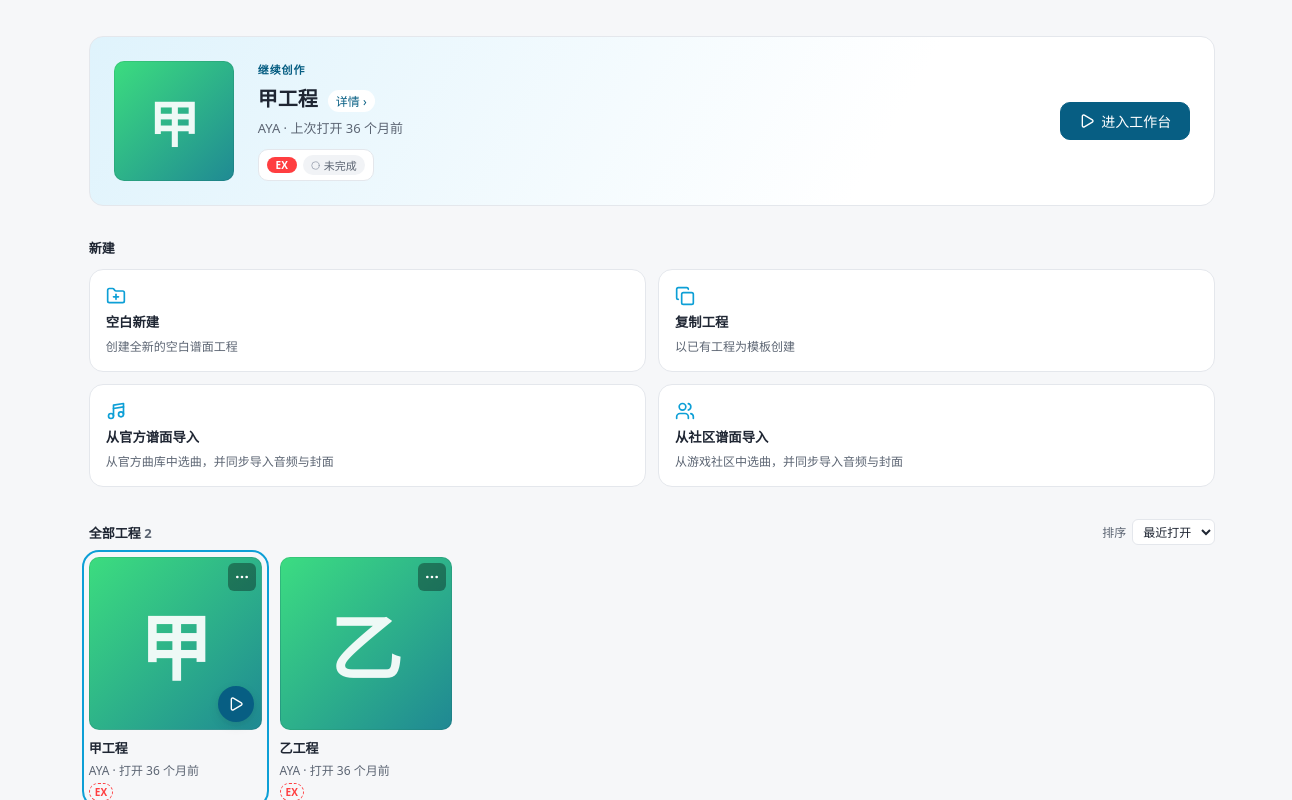
Scenario: 票 39 · 已登录那一态（Q10 / Q30 / Q31 / Q37） › 昵称没填时退到账号名，且**没有第二行**（Q30）
Check: the element showing "甲 甲工程 AYA · 打开 36 个月前 EX" is shown, box 89,557 -> 262,799
Click the text "甲工程".
click(108, 748)  # box 89,739 -> 128,757
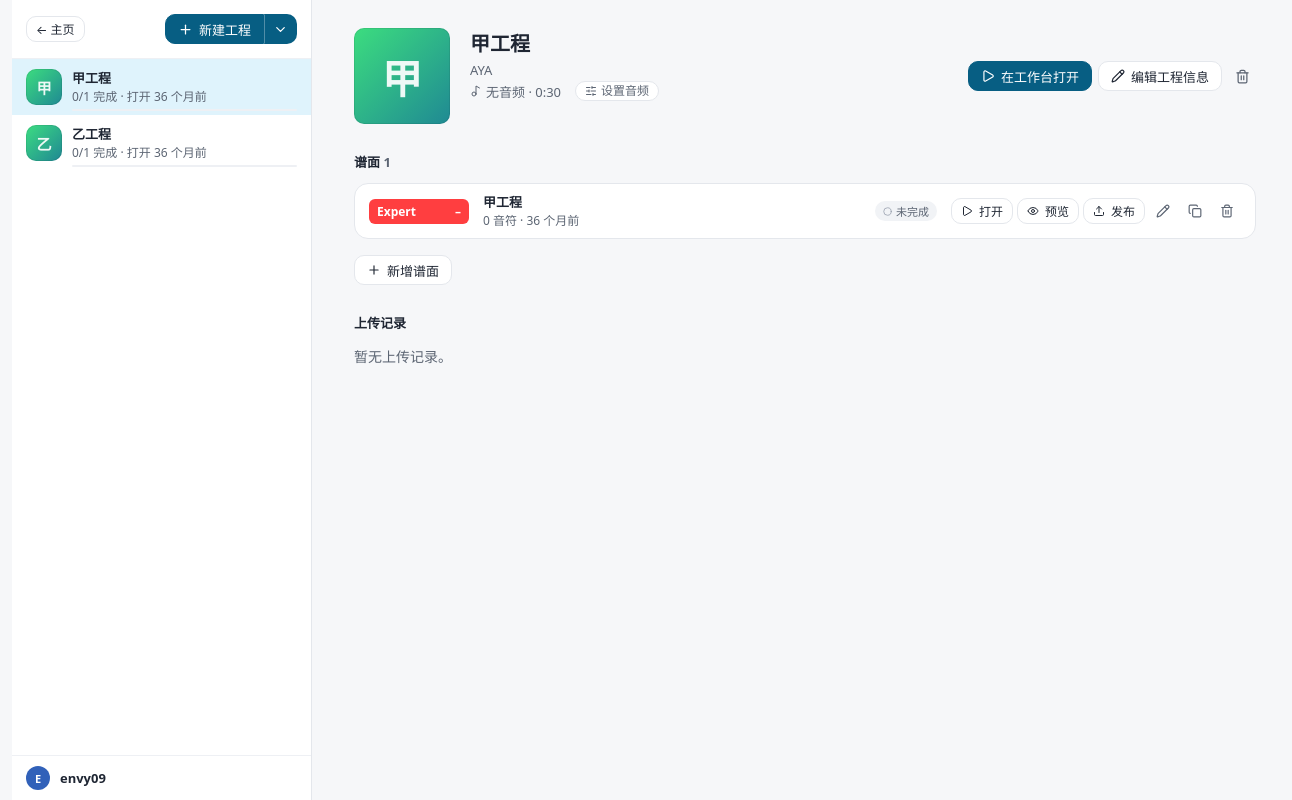
Check: the element showing "E envy09" is shown, box 12,755 -> 311,799
Check: the button "E envy09" is shown, box 12,756 -> 311,799
